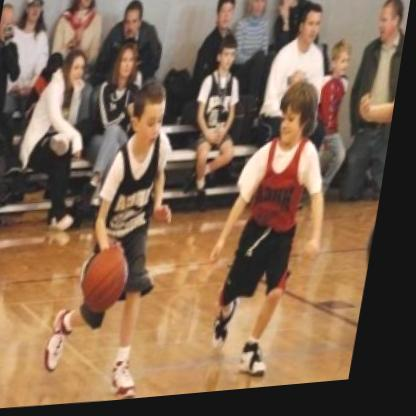basketball: (82, 244, 145, 319)
